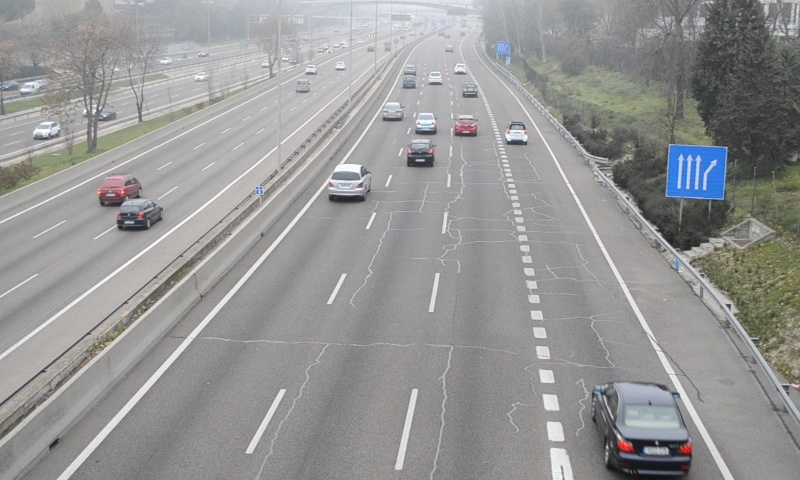car: (593, 382, 692, 476), (327, 162, 372, 198), (406, 138, 436, 167), (506, 120, 528, 145), (455, 114, 478, 137), (415, 112, 438, 134), (382, 102, 404, 122), (461, 82, 479, 98), (401, 76, 417, 89)
